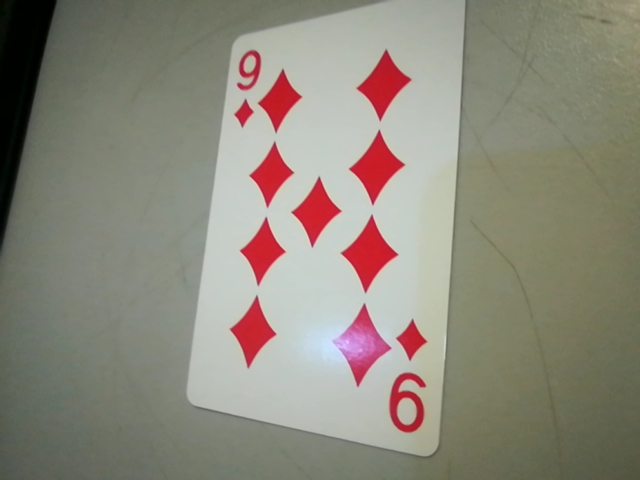fk 9: (220, 40, 276, 135)
